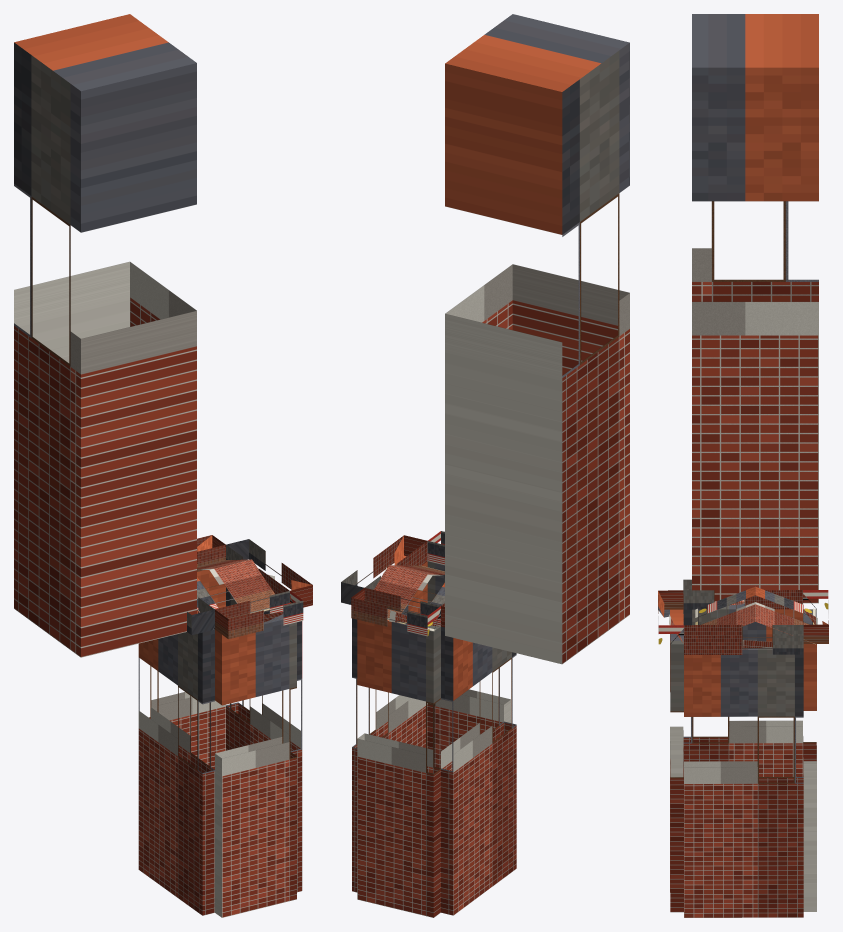
3 renders of one model, left to right at view 1: azimuth 30°, elevation 25°; view 2: azimuth 150°, elevation 25°; view 3: azimuth 270°, elevation 25°, orthographic. The views are drawn at different scales.
Visible parts, largest first — view 1: 1106965477__chimney_0_xb, 1106965477__wall_1_xb, 1106965477__wall_2_xb, 1106965477__wall_0_xb, 1106965477__wall_3_xb, 1106965477__cornice_1, 1106965477_roof_-1_xb, 1106965477__cornice_0, 1106965477__cornice_3, 1106965477__cornice_2; view 2: 1106965477__chimney_0_xb, 1106965477__wall_3_xb, 1106965477__wall_2_xb, 1106965477__wall_0_xb, 1106965477__wall_1_xb, 1106965477__cornice_3, 1106965477__cornice_0, 1106965477_roof_1_xb; view 3: 1106965477__chimney_0_xb, 1106965477__wall_0_xb, 1106965477__wall_2_xb, 1106965477__wall_1_xb, 1106965477__wall_3_xb, 1106965477__cornice_0, 1106965477__cornice_2, 1106965477_roof_1_xb, 1106965477_roof_-1_xb, 1106965477__cornice_1, 1106965477__cornice_3.
Part boxes in pixels (<box>): 1106965477__chimney_0_xb: <box>14,14,196,657</box>; 1106965477__wall_1_xb: <box>215,614,296,917</box>; 1106965477__wall_2_xb: <box>138,629,214,915</box>; 1106965477__wall_0_xb: <box>226,587,302,892</box>; 1106965477__wall_3_xb: <box>149,570,225,769</box>; 1106965477__cornice_1: <box>215,591,303,639</box>; 1106965477_roof_-1_xb: <box>197,559,274,613</box>; 1106965477__cornice_0: <box>226,539,312,607</box>; 1106965477__cornice_3: <box>197,535,225,571</box>; 1106965477__cornice_2: <box>187,597,214,634</box>; 1106965477__chimney_0_xb: <box>445,14,629,664</box>; 1106965477__wall_3_xb: <box>357,619,440,917</box>; 1106965477__wall_2_xb: <box>441,626,516,915</box>; 1106965477__wall_0_xb: <box>352,561,427,892</box>; 1106965477__wall_1_xb: <box>427,561,510,768</box>; 1106965477__cornice_3: <box>351,587,440,636</box>; 1106965477__cornice_0: <box>341,535,427,604</box>; 1106965477_roof_1_xb: <box>373,565,444,631</box>; 1106965477__chimney_0_xb: <box>692,14,818,603</box>; 1106965477__wall_0_xb: <box>684,647,803,917</box>; 1106965477__wall_2_xb: <box>683,604,802,776</box>; 1106965477__wall_1_xb: <box>670,609,683,912</box>; 1106965477__wall_3_xb: <box>803,609,816,911</box>; 1106965477__cornice_0: <box>684,625,803,654</box>; 1106965477__cornice_2: <box>683,579,802,609</box>; 1106965477_roof_1_xb: <box>755,587,815,644</box>; 1106965477_roof_-1_xb: <box>695,586,755,630</box>; 1106965477__cornice_1: <box>658,590,683,644</box>; 1106965477__cornice_3: <box>803,590,828,643</box>.
Bounding box in the file's own units: 0.2945 × 1.05 × 0.2022.
Materials: 1 (1 with a texture image).
